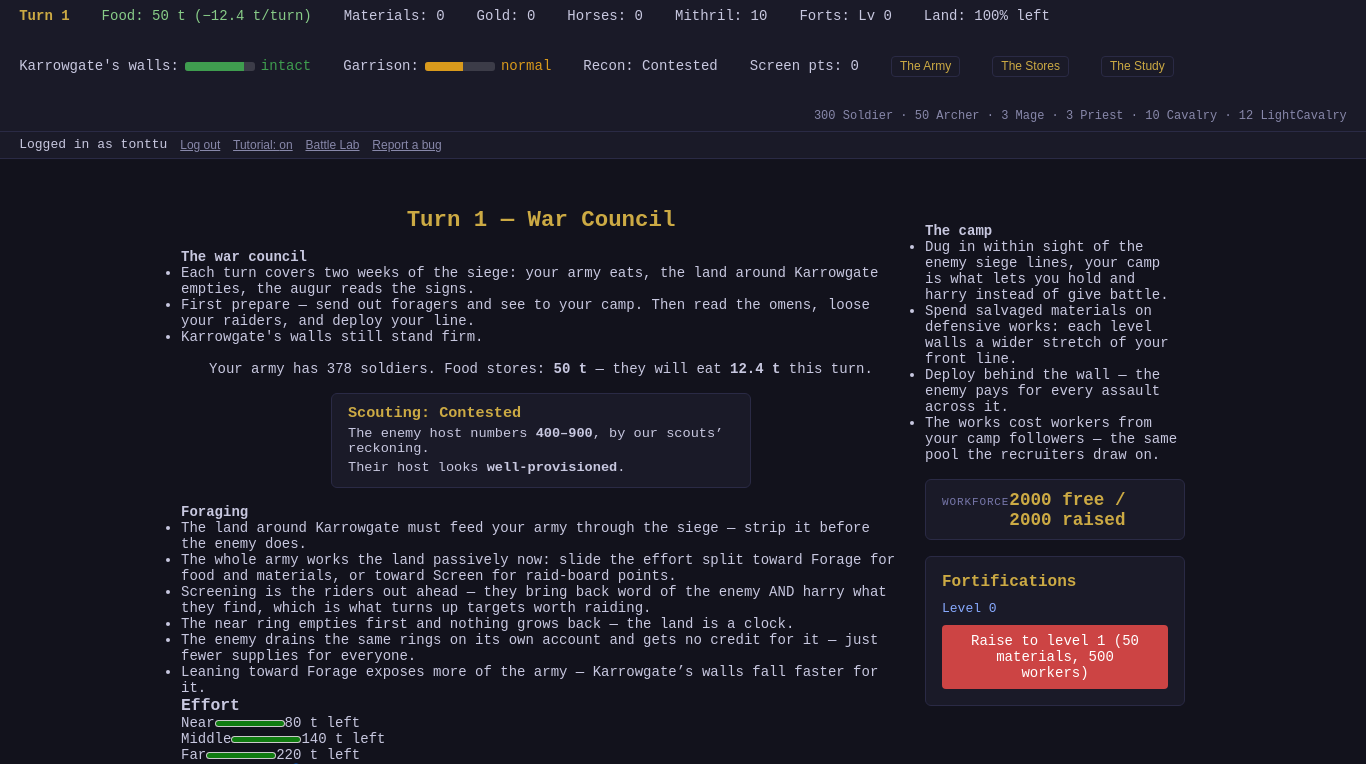
Test: the paths a caster commands (docs/CAMPAIGN_PLAN.md "▶ SLICE 2", S2-13) › a character the server sent NO paths for has no Paths section at all (C-4)
Check: the heading "Turn 1 — War Council" is shown, box [407,207,675,233]
Click the button with test id "hud-army". click: (926, 66)
box: [891,56,960,77]
(page scrolled)
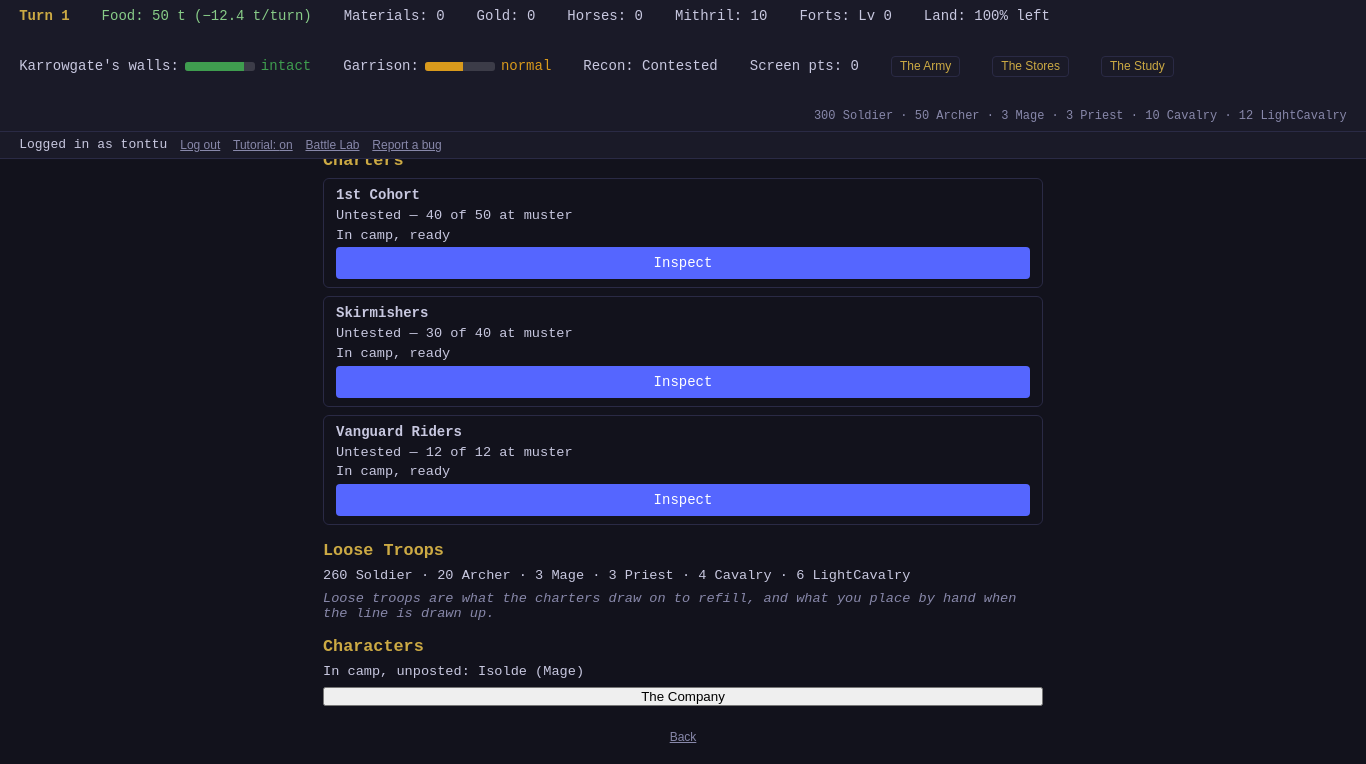
Check: the element with test id "squad-roll" is shown, box [323,159,1043,706]
Click the button with test id "roll-to-company". click: (683, 697)
box: [323,687,1043,706]
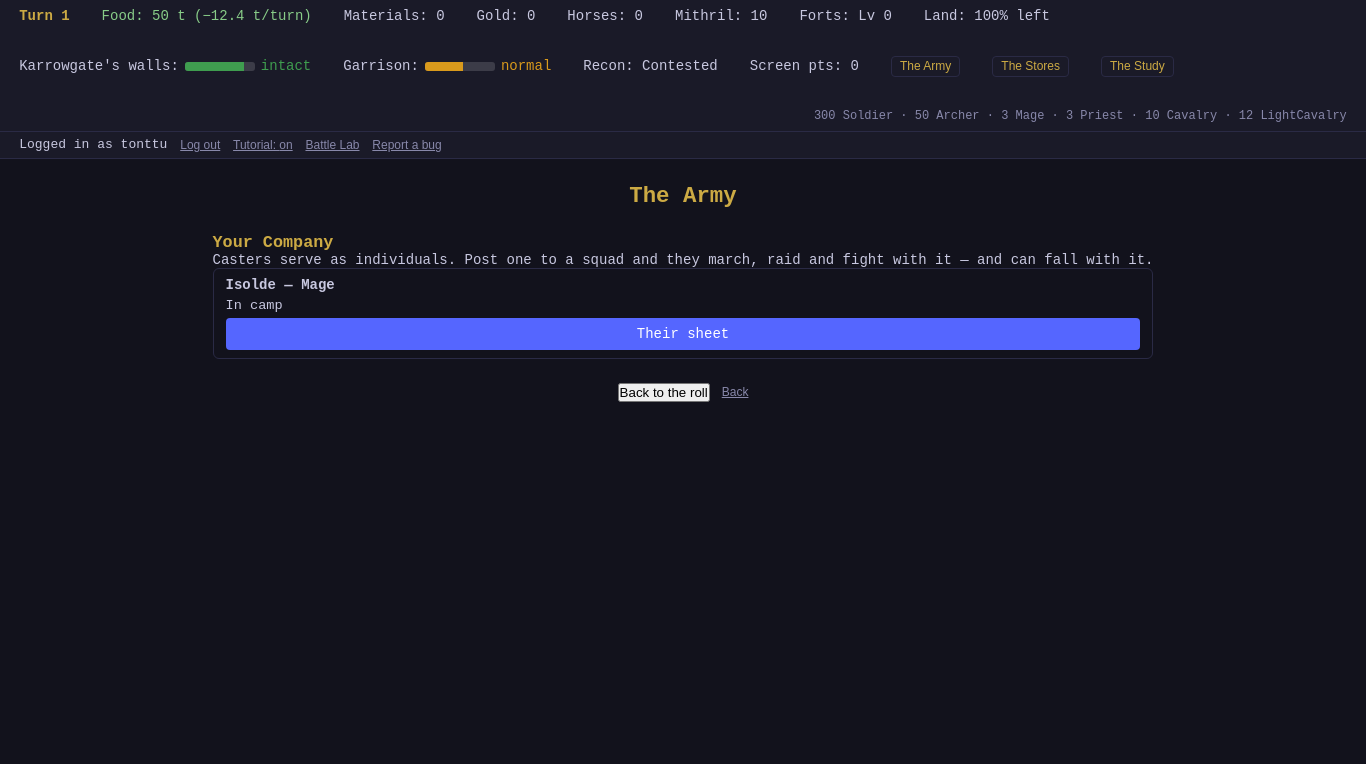
Click the button "Their sheet". click: (683, 334)
box: [226,318,1140,350]
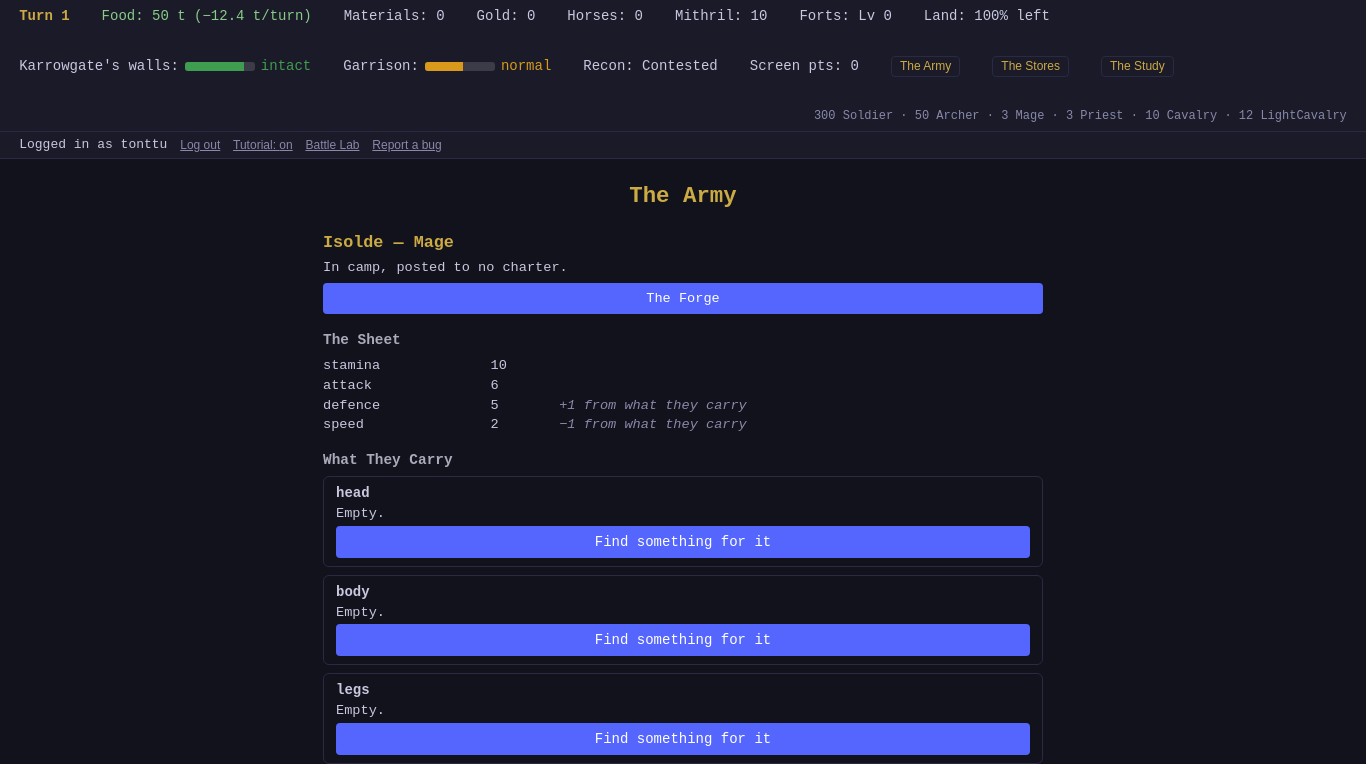
Check: the text "In camp, posted to no charter." is shown, box [323,260,568,275]
